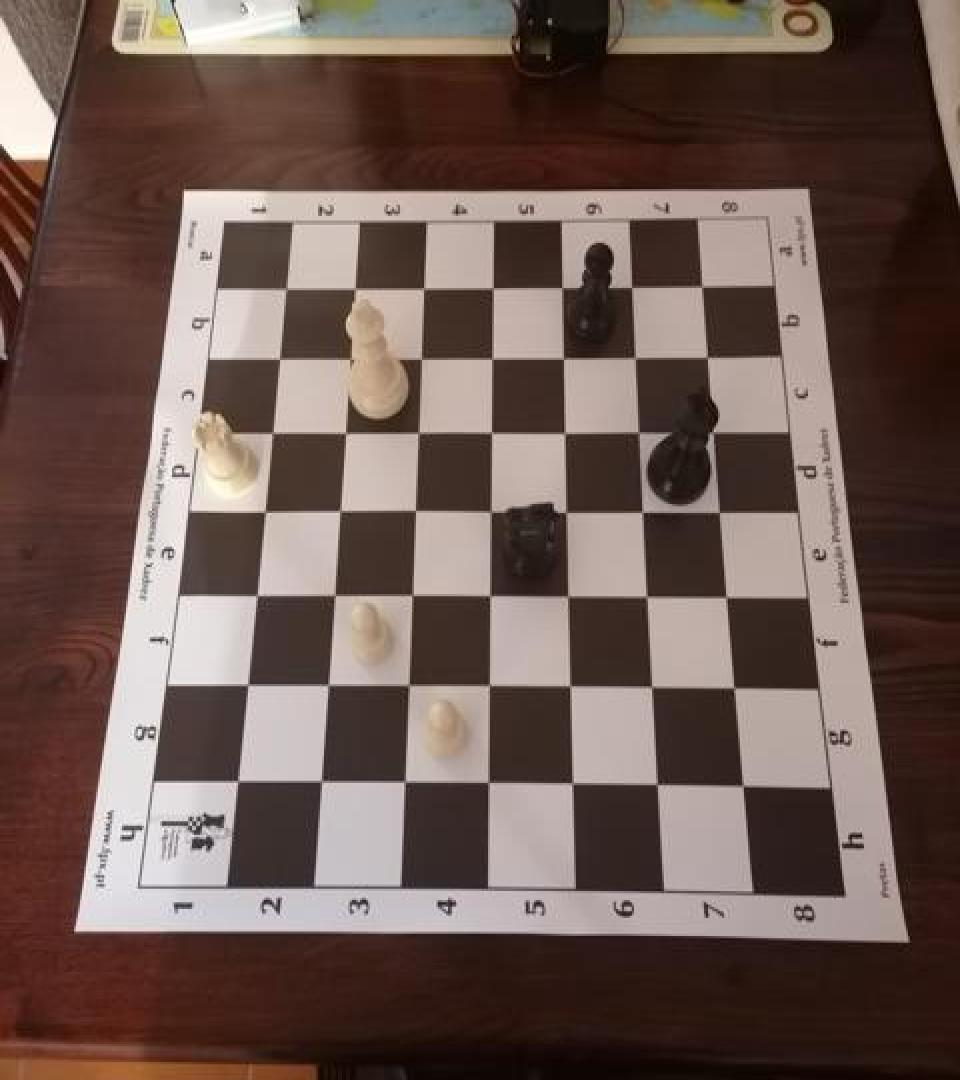xcorner: (687, 268, 717, 302), (617, 269, 647, 303), (547, 270, 577, 304), (477, 270, 507, 304), (408, 271, 438, 305), (339, 271, 369, 305), (271, 272, 301, 306), (693, 338, 723, 372), (621, 340, 651, 374), (548, 340, 578, 374), (477, 341, 507, 375), (405, 341, 435, 375), (334, 341, 364, 375), (264, 342, 294, 376), (700, 414, 730, 448), (625, 414, 655, 448), (550, 415, 580, 449), (476, 415, 506, 449), (403, 415, 433, 449), (329, 416, 359, 450), (256, 416, 286, 450), (707, 495, 737, 529), (629, 495, 659, 529), (552, 495, 582, 529), (476, 495, 506, 529), (400, 495, 430, 529), (324, 495, 354, 529), (249, 495, 279, 529), (714, 580, 744, 614), (634, 580, 664, 614), (554, 580, 584, 614), (475, 580, 505, 614), (396, 580, 426, 614), (318, 579, 348, 613), (240, 579, 270, 613), (722, 672, 752, 706), (639, 672, 669, 706), (312, 670, 342, 704), (231, 670, 261, 704), (731, 772, 761, 806), (644, 770, 674, 804), (559, 770, 589, 804), (474, 770, 504, 804), (389, 770, 419, 804), (305, 768, 335, 802), (221, 767, 251, 801), (556, 672, 586, 705), (474, 672, 504, 705), (393, 672, 423, 705)
